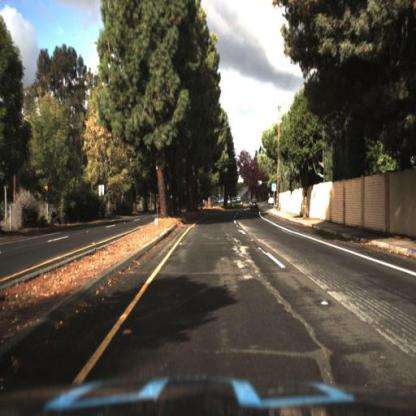car: (248, 196, 263, 212)
